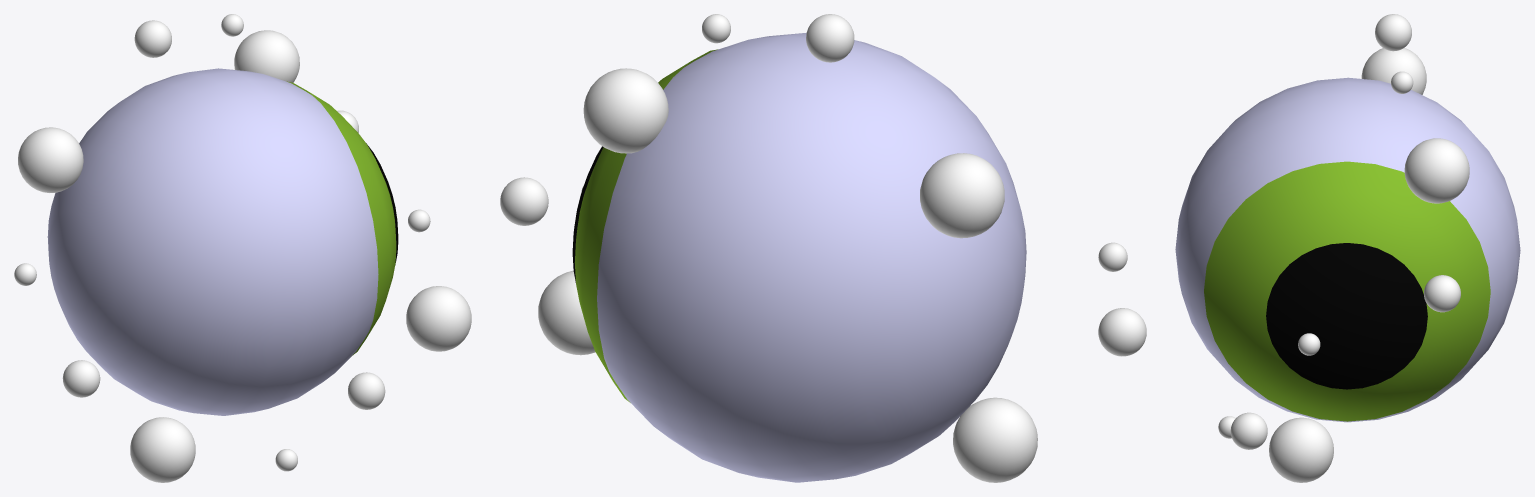
Rendered from Eye_Am_Idle_Adult.fbx.
3 views of the same model, side by side, from view 1: azimuth 30°, elevation 25°; view 2: azimuth 150°, elevation 25°; view 3: azimuth 270°, elevation 25° (orthographic). The views are drawn at different scales.
Visible parts, largest first — view 1: Eye.001, Sphere009.003; view 2: Eye.001, Sphere009.003; view 3: Eye.001, Sphere009.003.
Boxes of the visible parts, <box> form: Eye.001: <box>47,68,398,415</box>; Sphere009.003: <box>14,14,471,482</box>; Eye.001: <box>572,32,1026,482</box>; Sphere009.003: <box>500,14,1146,482</box>; Eye.001: <box>1175,77,1520,422</box>; Sphere009.003: <box>1218,14,1469,482</box>.
Bounding box in the file's own units: 90.14 × 76.51 × 60.24.
